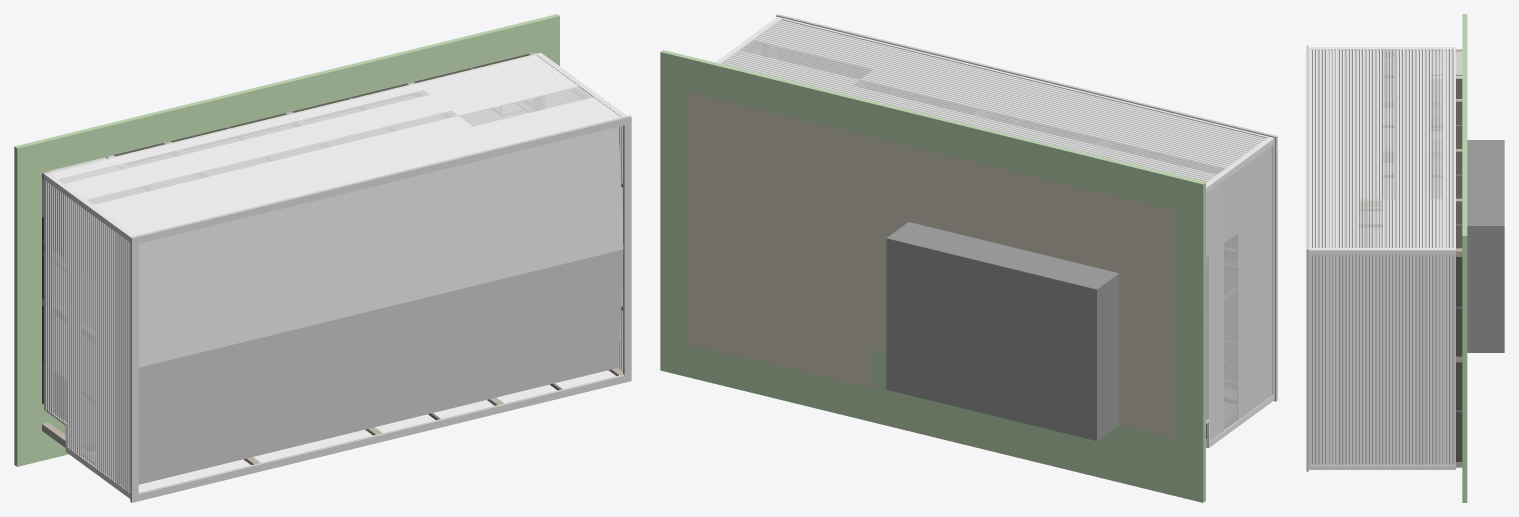
The model's file is Cirtesu.obj.
The picture shows the model from 3 angles, left to right: view 1: azimuth 30°, elevation 25°; view 2: azimuth 150°, elevation 25°; view 3: azimuth 270°, elevation 25°; orthographic projection. The views are drawn at different scales.
Parts seen in each view (by area): view 1: mesh254, mesh3009, mesh1391, mesh2553, mesh1388, mesh1389, mesh2547, mesh2554, mesh1485, mesh1256, mesh1352, mesh2491 (+59 smaller); view 2: mesh1392, mesh506, mesh1442, mesh176, mesh142, mesh504, mesh505, mesh1388, mesh2548, mesh2547, mesh3170, mesh1389 (+39 smaller); view 3: mesh502, mesh504, mesh1387, mesh1388, mesh2776, mesh3624, mesh2546, mesh1492, mesh1496, mesh1508, mesh1520, mesh1624 (+172 smaller).
Boxes of the visible parts, box(x1,y1,x2,y2) form: mesh254: box(138, 127, 623, 367); mesh3009: box(138, 249, 623, 484); mesh1391: box(17, 16, 559, 466); mesh2553: box(132, 116, 631, 502); mesh1388: box(15, 14, 559, 148); mesh1389: box(14, 146, 17, 466); mesh2547: box(130, 115, 630, 238); mesh2554: box(138, 374, 624, 493); mesh1485: box(82, 274, 94, 444); mesh1256: box(85, 80, 571, 199); mesh1352: box(57, 60, 543, 179); mesh2491: box(138, 375, 615, 492); mesh1392: box(660, 52, 1203, 502); mesh506: box(886, 238, 1096, 440); mesh1442: box(688, 92, 806, 372); mesh176: box(908, 146, 1175, 438); mesh142: box(806, 121, 908, 388); mesh504: box(887, 222, 1118, 289); mesh505: box(1097, 273, 1119, 440); mesh1388: box(661, 50, 1205, 184); mesh2548: box(776, 15, 1275, 401); mesh2547: box(776, 14, 1276, 136); mesh3170: box(782, 18, 1268, 137); mesh1389: box(1203, 182, 1205, 502); mesh502: box(1467, 226, 1504, 352); mesh504: box(1431, 140, 1504, 225); mesh1387: box(1462, 236, 1467, 502); mesh1388: box(1462, 14, 1467, 235); mesh2776: box(1309, 250, 1455, 254); mesh3624: box(1309, 465, 1455, 469); mesh2546: box(1306, 249, 1308, 471); mesh1492: box(1309, 255, 1311, 465); mesh1496: box(1312, 255, 1314, 464); mesh1508: box(1322, 255, 1324, 464); mesh1520: box(1332, 255, 1334, 464); mesh1624: box(1419, 255, 1421, 464).
Bounding box in the file's own units: 33 × 18.5 × 12.46.
